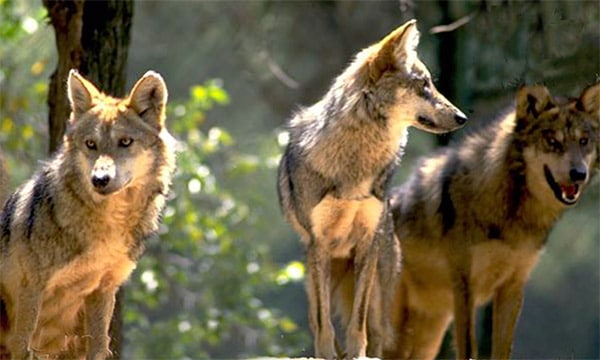Lobo: (268, 21, 456, 331), (12, 51, 170, 325), (473, 68, 593, 301)
